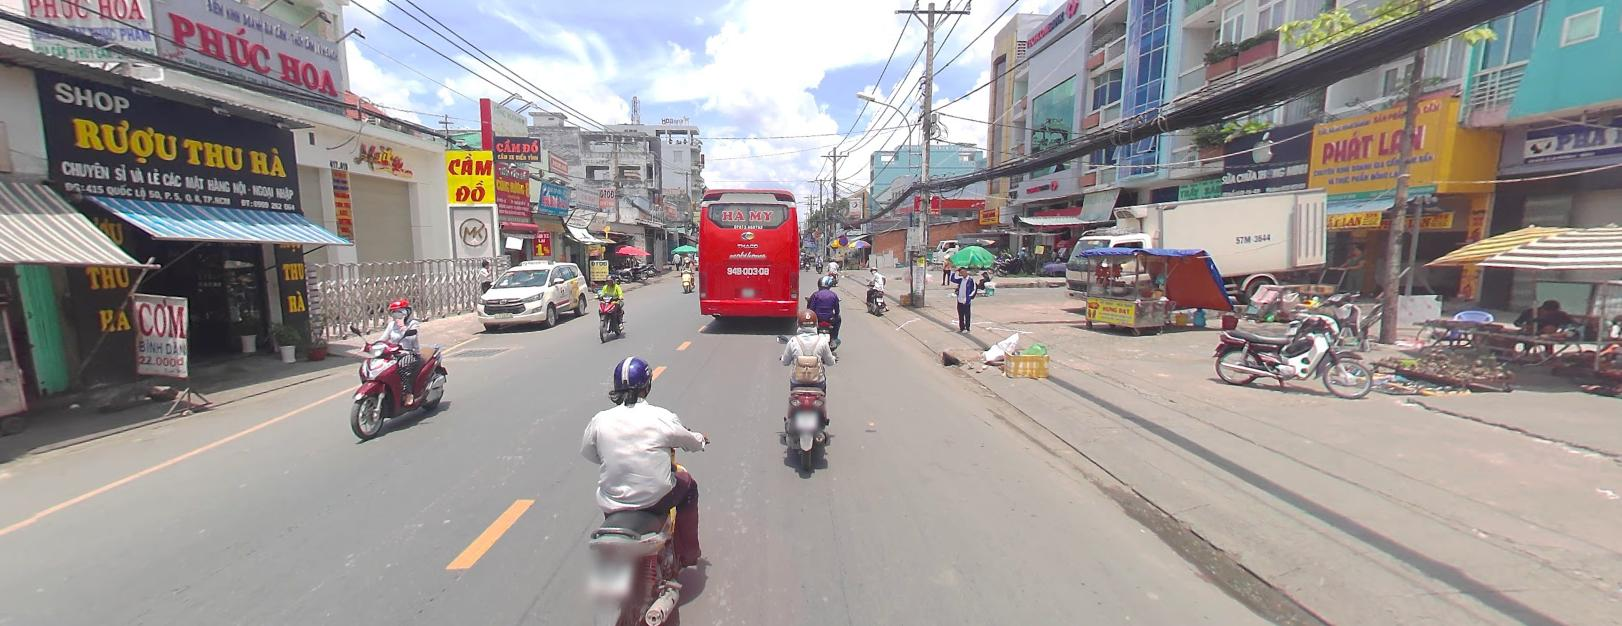Cam dung va do: (838, 234, 847, 244), (839, 235, 847, 244)
